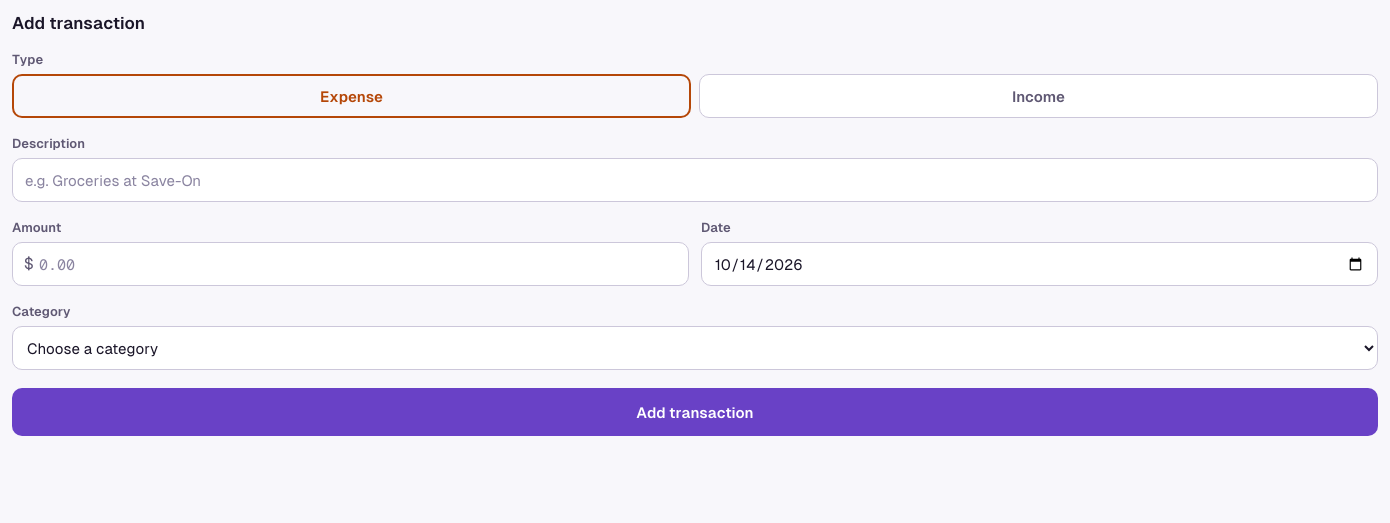
Test case: TransactionForm › explains each missing field instead of submitting
The image size is (1390, 523).
Click the button "Add transaction" at (695, 412), box [12,388,1378,436]
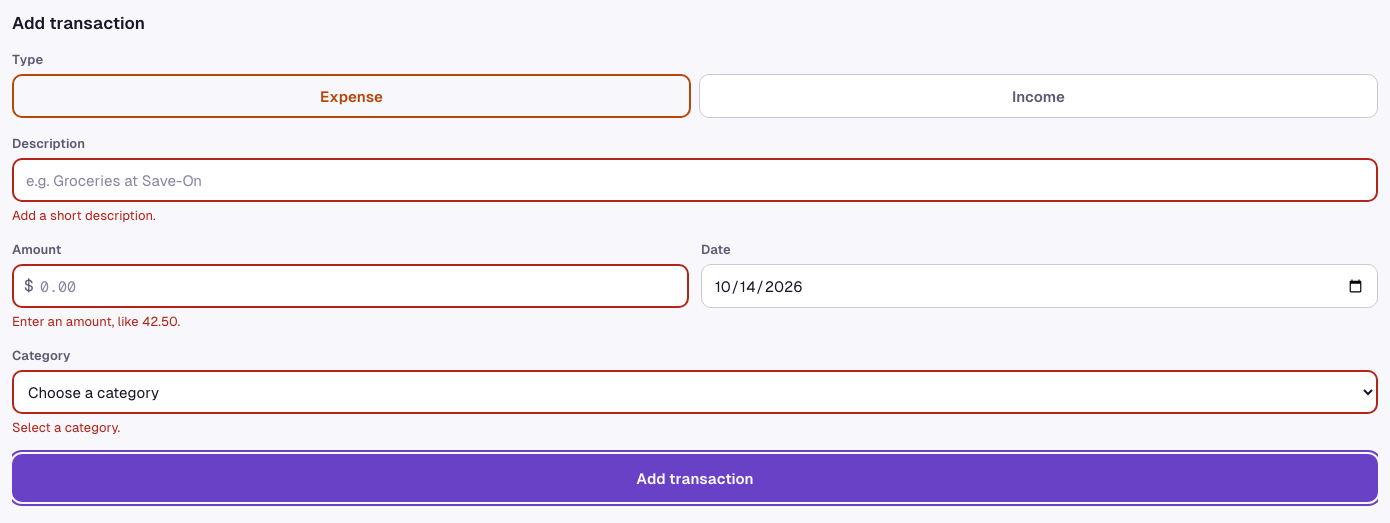
Result: the text "Add a short description." is shown at [12,208,156,223]
Result: the text "Enter an amount, like 42.50." is shown at [12,314,180,329]
